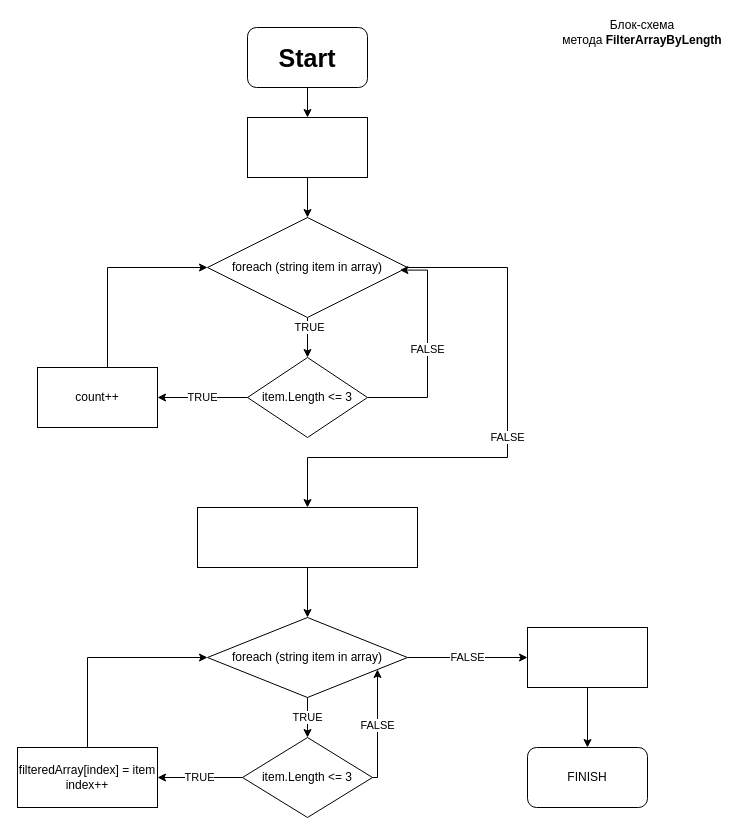
The diagram is 739 pixels wide and 835 high, and some of its shapes have lost their labels. Each missing label, with the centre of its shape:
"return filteredArray" belongs at [587,657].
"string[ ] array count = 0" belongs at [307,147].
"string[] filteredArray = new string[count] index = 0" belongs at [307,537].
